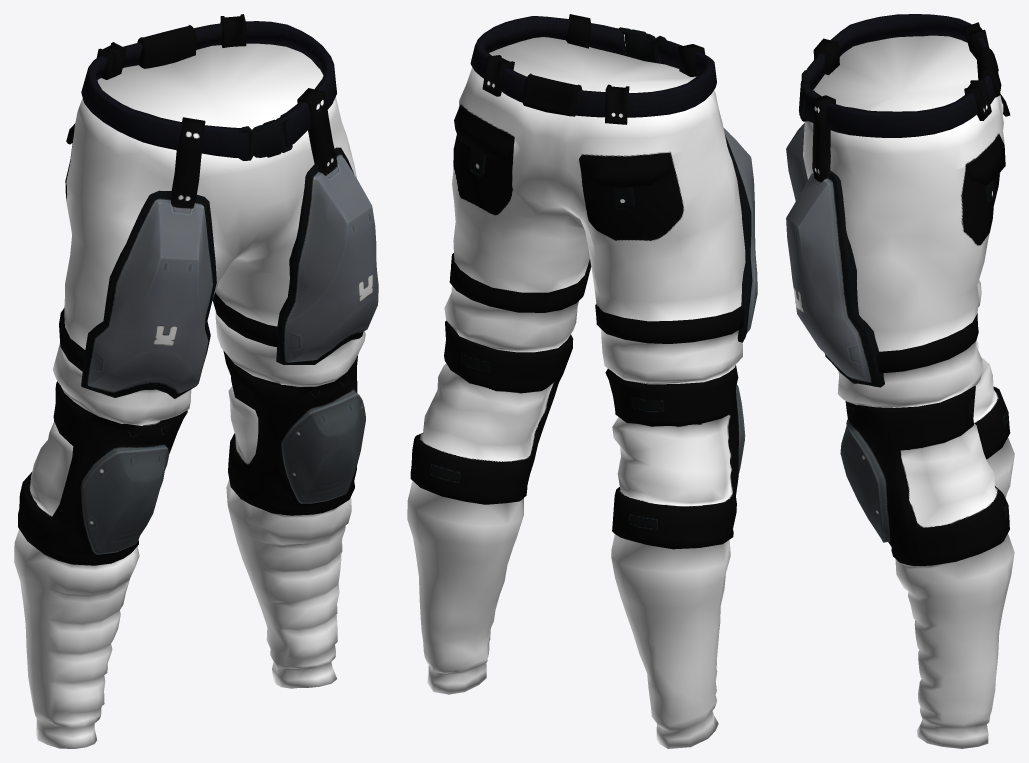
The model's file is SurvivorMale_Legs_Pants_TacShell_LOD0.glb.
3 views of the same model, side by side, from view 1: azimuth 30°, elevation 25°; view 2: azimuth 150°, elevation 25°; view 3: azimuth 270°, elevation 25° (orthographic). The views are drawn at different scales.
Visible parts, largest first — view 1: Hoodie; view 2: Hoodie; view 3: Hoodie.
Part boxes in pixels (x1,y1,x2,y2): Hoodie: (14,14,378,748); Hoodie: (407,14,757,748); Hoodie: (786,14,1014,748).
Bounding box in the file's own units: 0.4886 × 0.9783 × 0.3208.
Materials: 1 (1 with a texture image).
